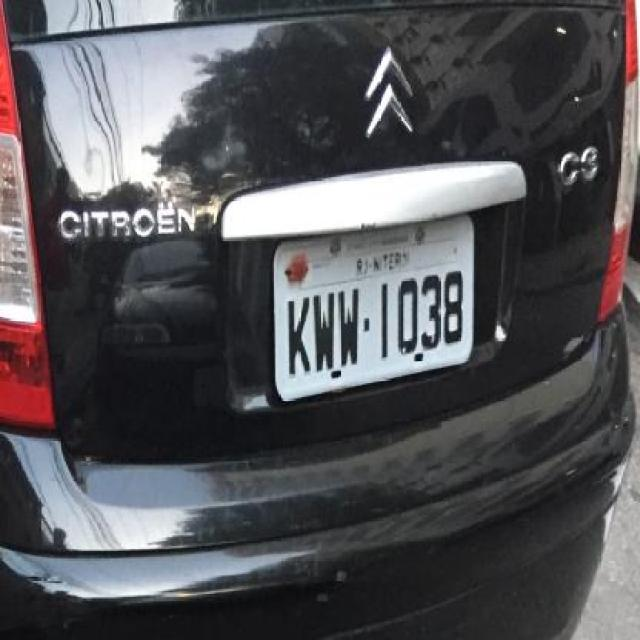old_plate: (266, 204, 484, 408)
